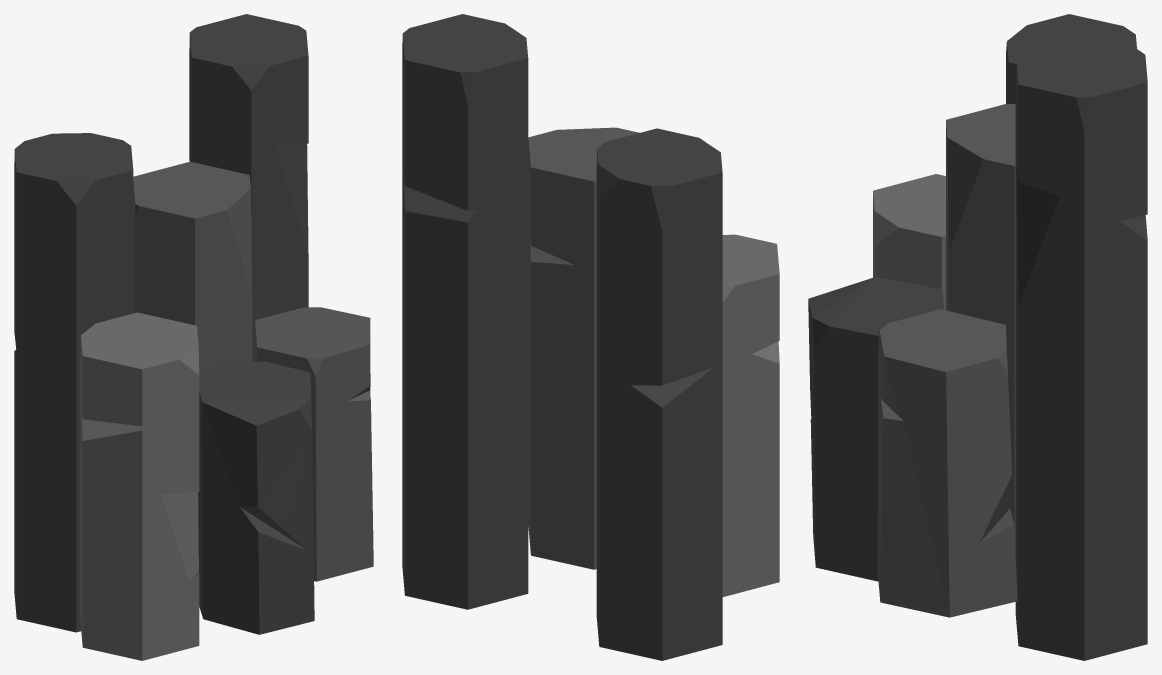
The model's file is basaltic-columns.fbx.
The picture shows the model from 3 angles, left to right: view 1: azimuth 30°, elevation 25°; view 2: azimuth 150°, elevation 25°; view 3: azimuth 270°, elevation 25°; orthographic projection. The views are drawn at different scales.
Parts seen in each view (by area): view 1: basaltic-columns-6, basaltic-columns-5, basaltic-columns-1, basaltic-columns-4, basaltic-columns-3, basaltic-columns-2; view 2: basaltic-columns-4, basaltic-columns-6, basaltic-columns-3, basaltic-columns-5; view 3: basaltic-columns-4, basaltic-columns-2, basaltic-columns-1, basaltic-columns-3, basaltic-columns-5, basaltic-columns-6.
Part boxes in pixels (x1=…): basaltic-columns-6: x1=14, y1=133, x2=133, y2=632; basaltic-columns-5: x1=80, y1=312, x2=199, y2=660; basaltic-columns-1: x1=198, y1=361, x2=314, y2=634; basaltic-columns-4: x1=189, y1=14, x2=308, y2=361; basaltic-columns-3: x1=133, y1=161, x2=252, y2=372; basaltic-columns-2: x1=255, y1=307, x2=373, y2=581; basaltic-columns-4: x1=402, y1=14, x2=528, y2=609; basaltic-columns-6: x1=596, y1=128, x2=722, y2=660; basaltic-columns-3: x1=528, y1=127, x2=639, y2=569; basaltic-columns-5: x1=722, y1=234, x2=779, y2=596; basaltic-columns-4: x1=1015, y1=36, x2=1147, y2=660; basaltic-columns-2: x1=877, y1=309, x2=1017, y2=617; basaltic-columns-1: x1=808, y1=277, x2=944, y2=581; basaltic-columns-3: x1=946, y1=104, x2=1015, y2=551; basaltic-columns-5: x1=873, y1=174, x2=945, y2=310; basaltic-columns-6: x1=1006, y1=14, x2=1136, y2=104.
Size of the model in its own units: 284 by 467 by 252.
